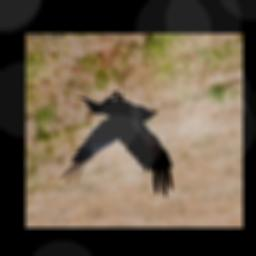Crow: (59, 90, 175, 199)
